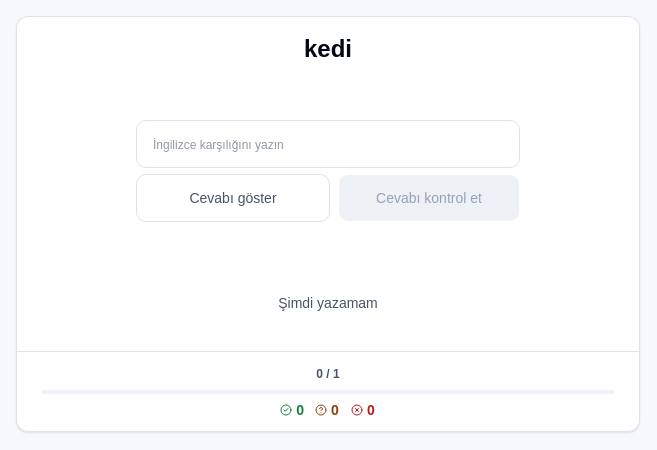
StudySessionPage › shows the wrong and correct written answers in one read-only field
Type "dog" into the field named "İngilizce cevap". click: (328, 144)
box: [153,121,503,167]
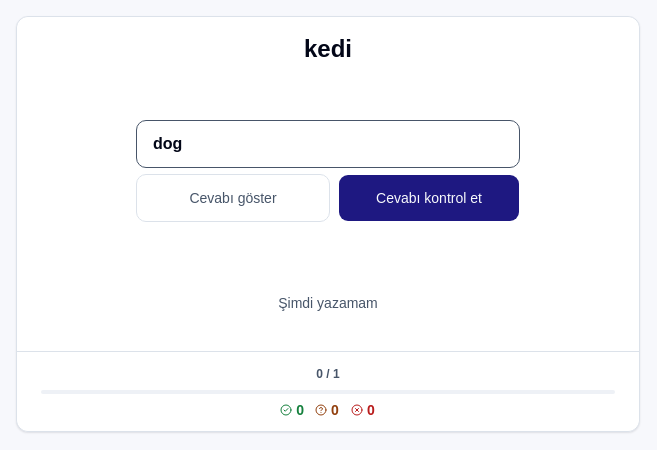
Click the button "Cevabı kontrol et". click: (429, 198)
box: [338,174,520,222]
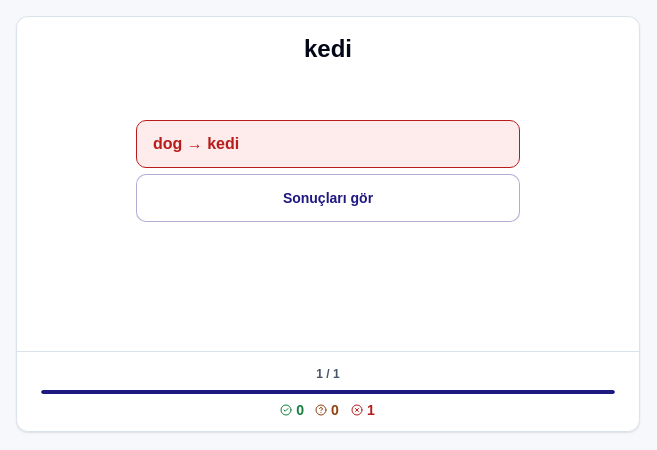
Check: the button "Sonuçları gör" is shown, box [136,174,520,222]
Check: the field named "İngilizce cevap" holds "dog → kedi", box [153,121,503,167]
